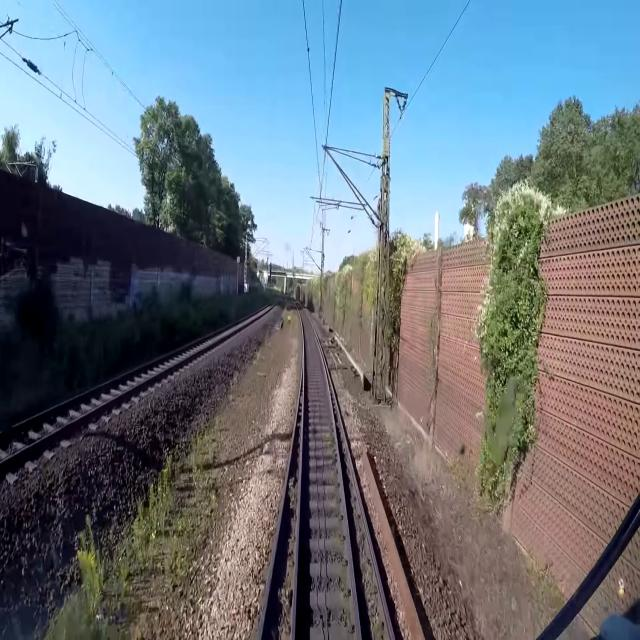rail-track: (0, 318, 252, 459), (296, 303, 356, 639), (333, 402, 391, 639), (260, 391, 301, 639)
